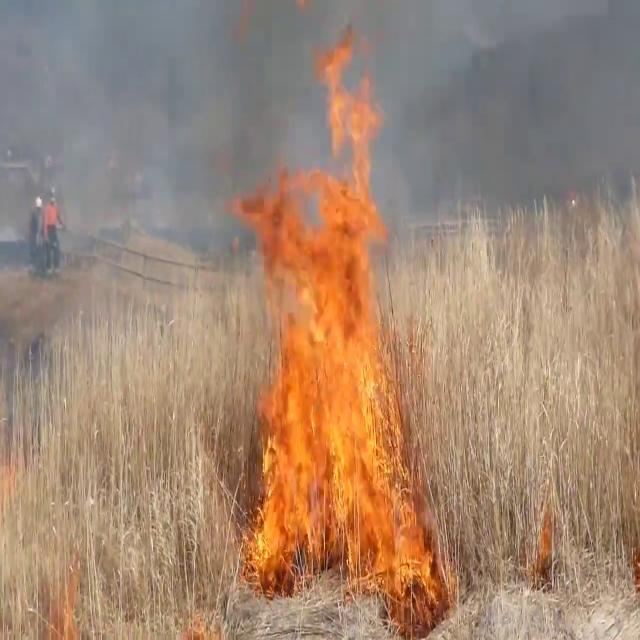Fire: (245, 49, 432, 603)
Smoke: (0, 0, 300, 312)
